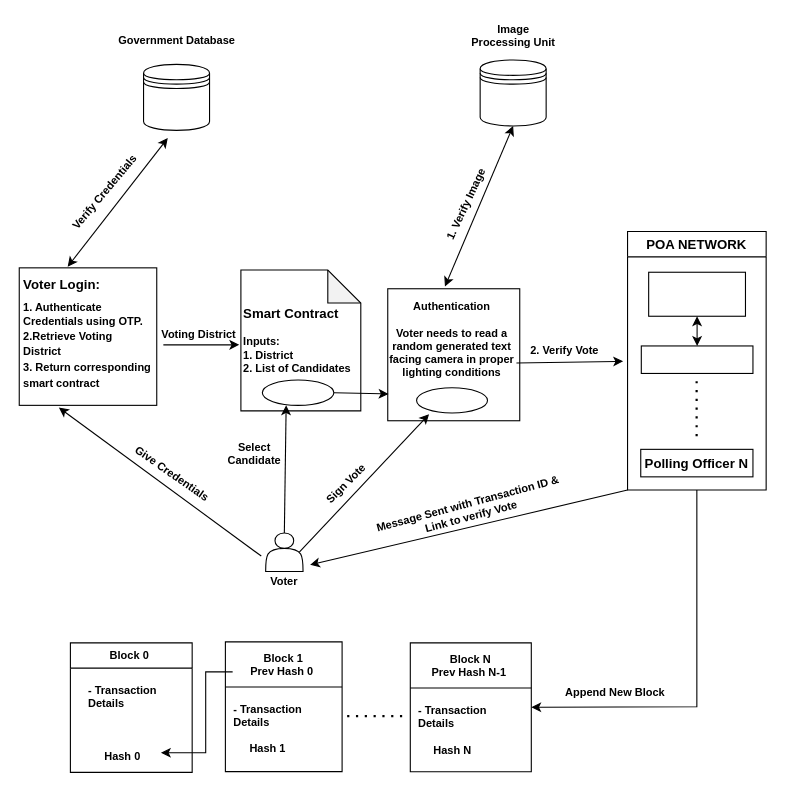
Image size: 785x792. Some labels were removed from this diagram. Here are the shapes that lost their labels. From the top down, the centre of each, then its label:
the point at 696,293: Election Commisioner
the point at 696,359: Polling Officer 1
the point at 297,392: Select
the point at 451,400: Vote
